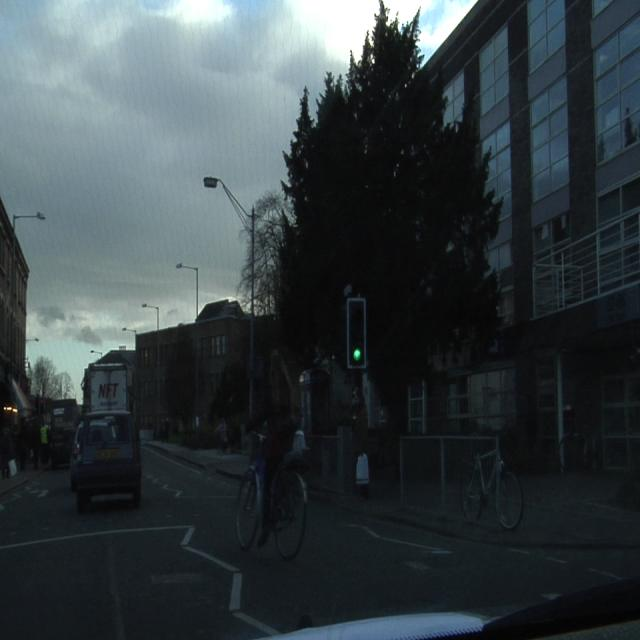Bicyclist: (236, 372, 306, 560)
Building: (136, 298, 250, 437), (0, 198, 29, 428)
Car: (74, 412, 140, 512)
Road: (0, 447, 640, 638)
Tree: (256, 5, 500, 429)
